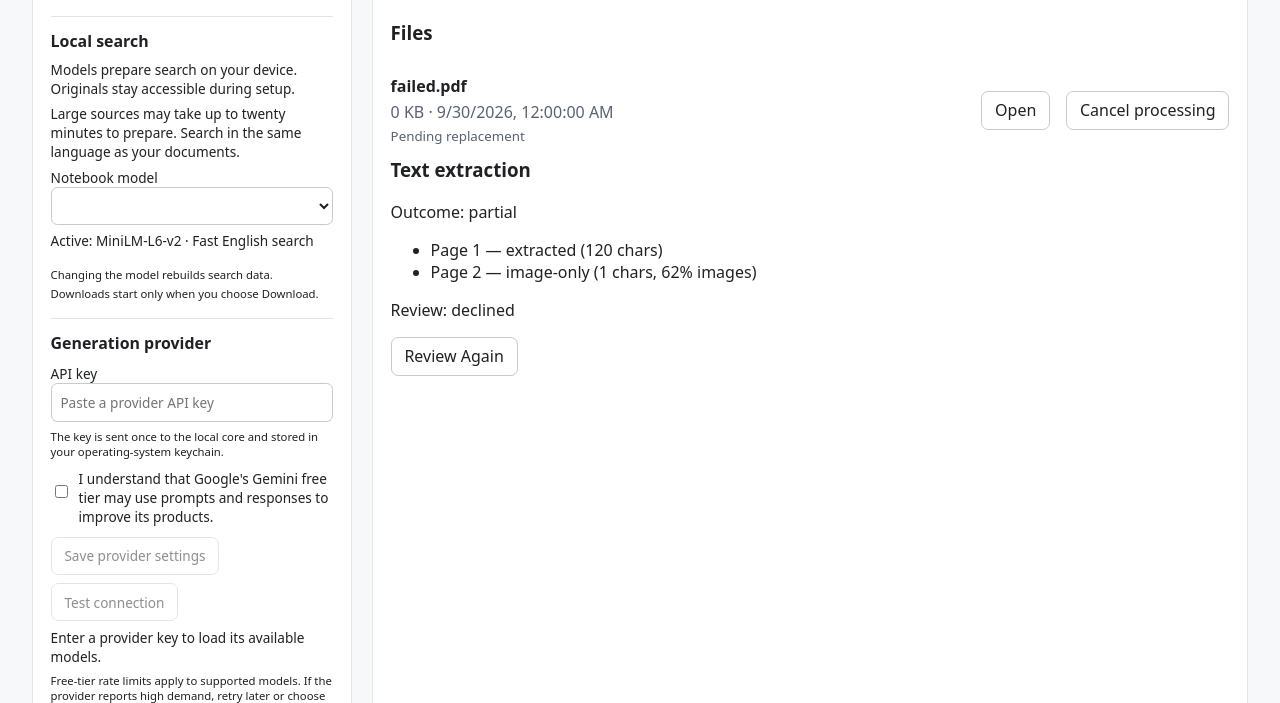
Test: completes Review Again and Confirm after a delayed declined extraction poll
(page scrolled)
Click the button "Review Again" at (454, 356), box [391,337,518,376]
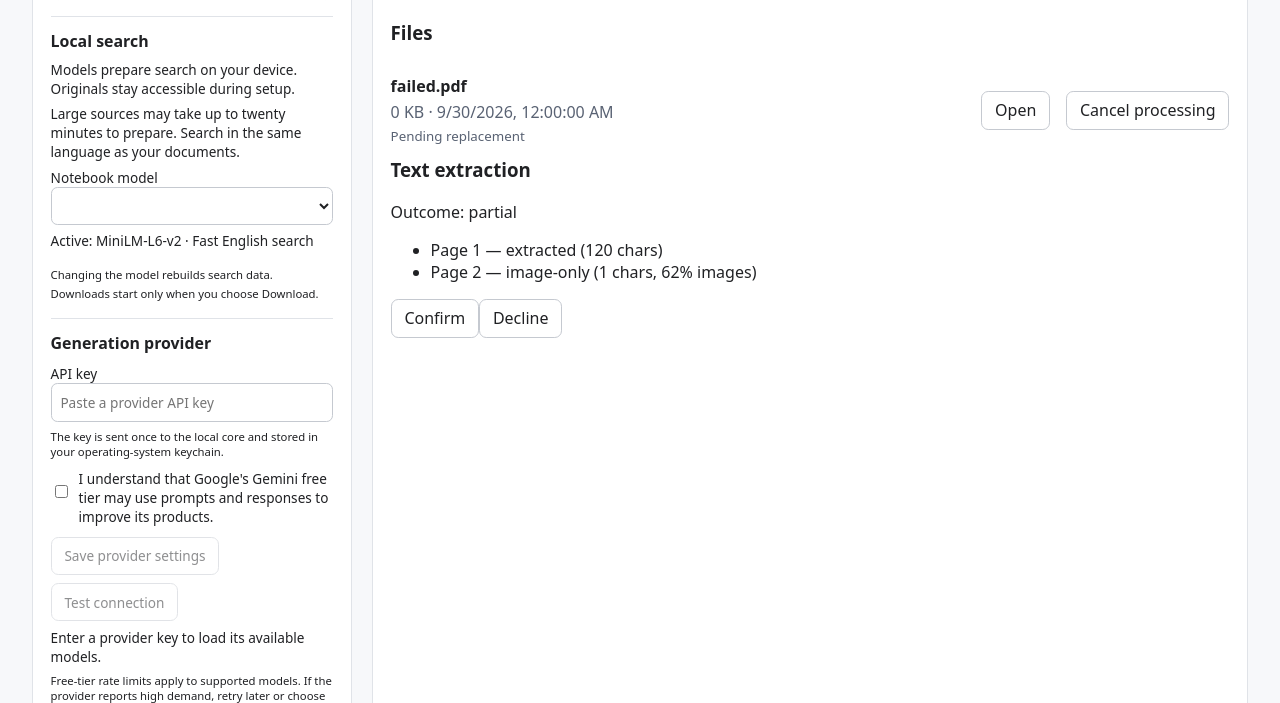
Result: the button "Confirm" is shown
Click the button "Confirm" at (435, 318), box [391,299,479,338]
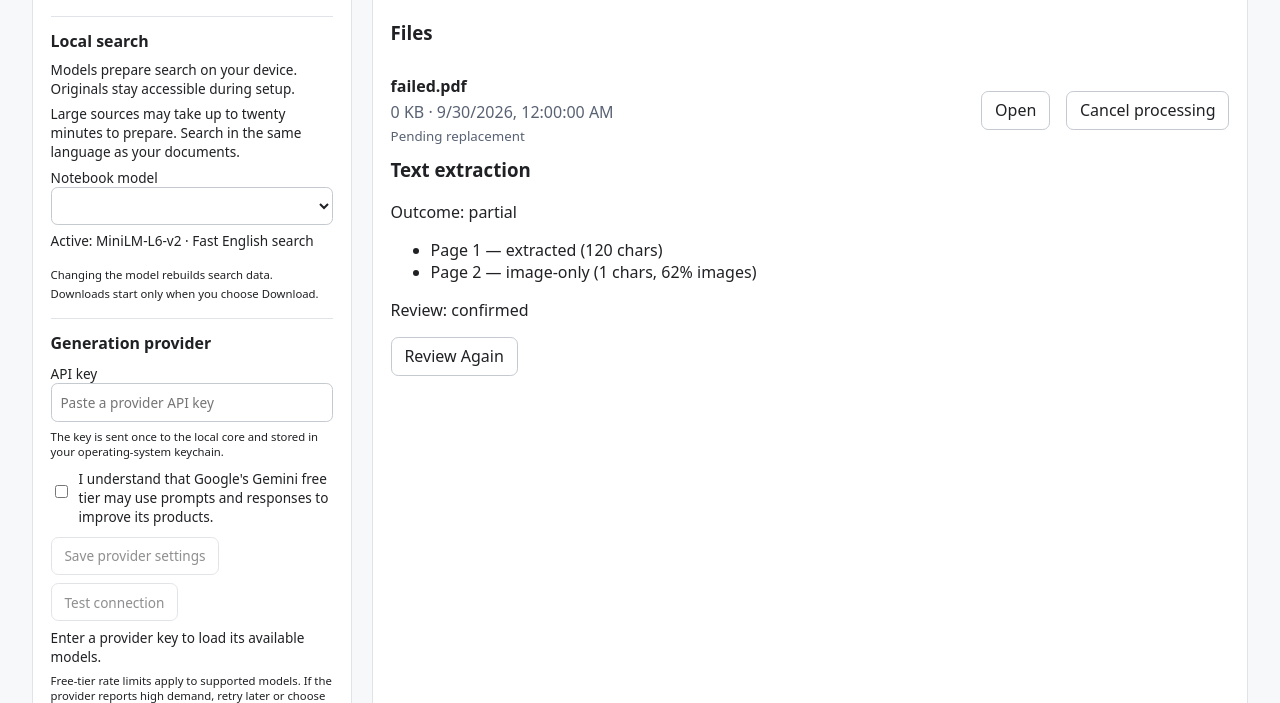
Result: the text "Review: confirmed" is shown at [391,299,529,321]
